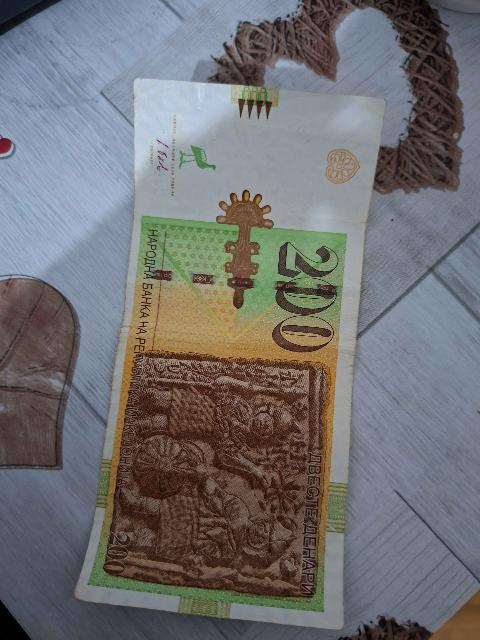200_note: (77, 81, 383, 627)
